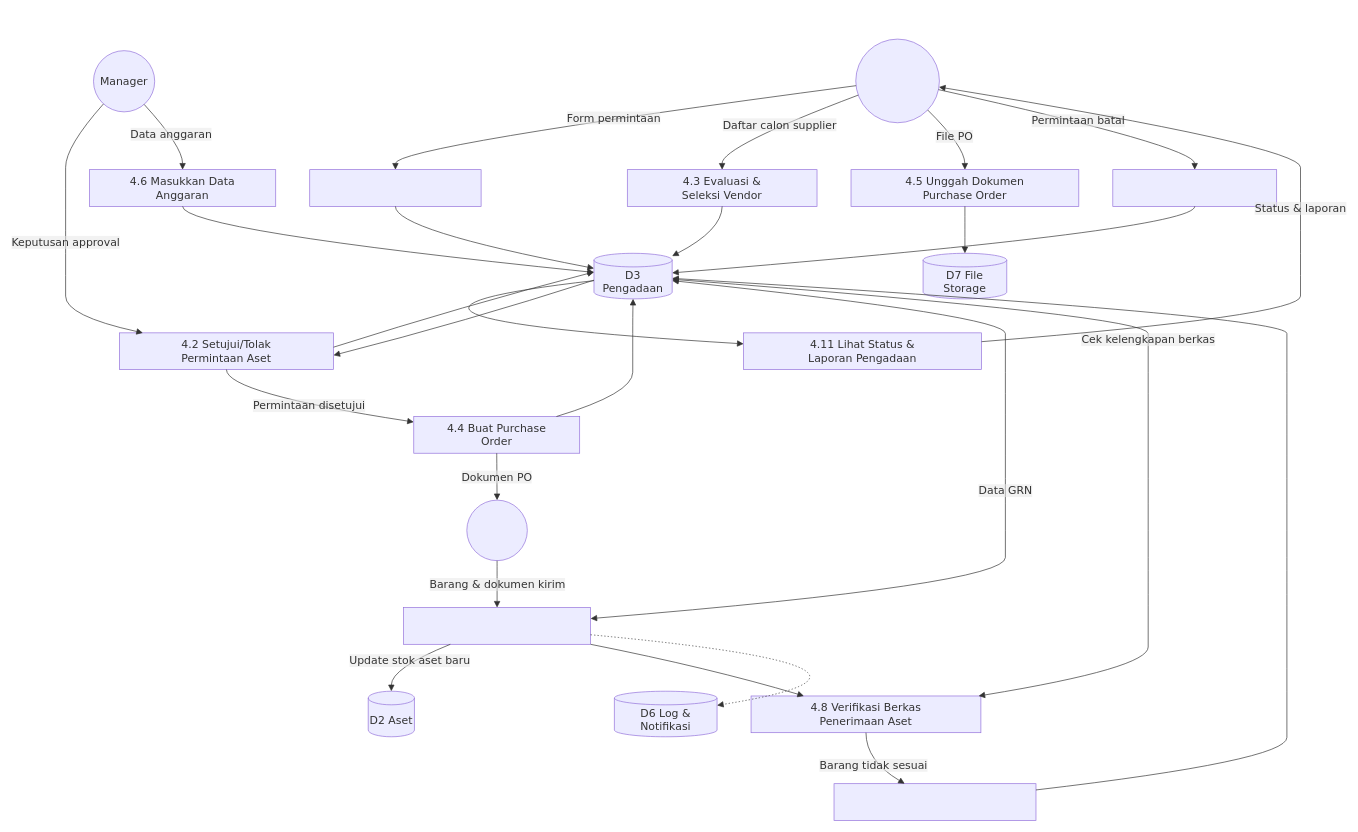
This 1358x832 diagram has some shape labels left out. Each missing label, with the centre of its shape:
4.1 Buat Permintaan Aset: [395,187]
4.10 Buat Laporan Retur Barang: [934,801]
4.7 Terima Aset & Catat GRN: [497,625]
4.9 Batalkan Pengadaan: [1194,187]
Staff Gudang: [897,80]
Supplier: [496,530]
